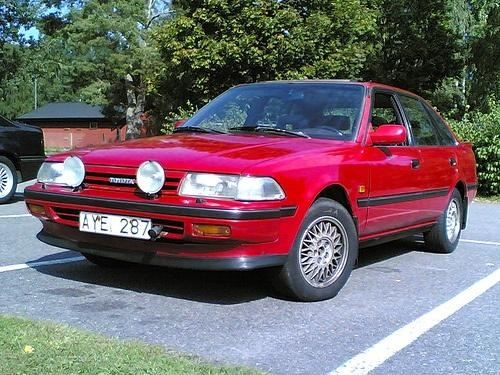car: (24, 81, 479, 304), (1, 114, 47, 206)
